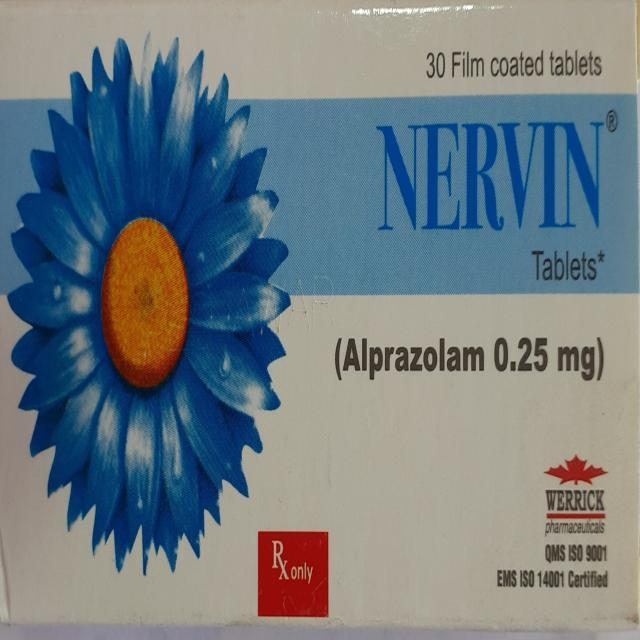drug-name: (372, 123, 604, 235)
